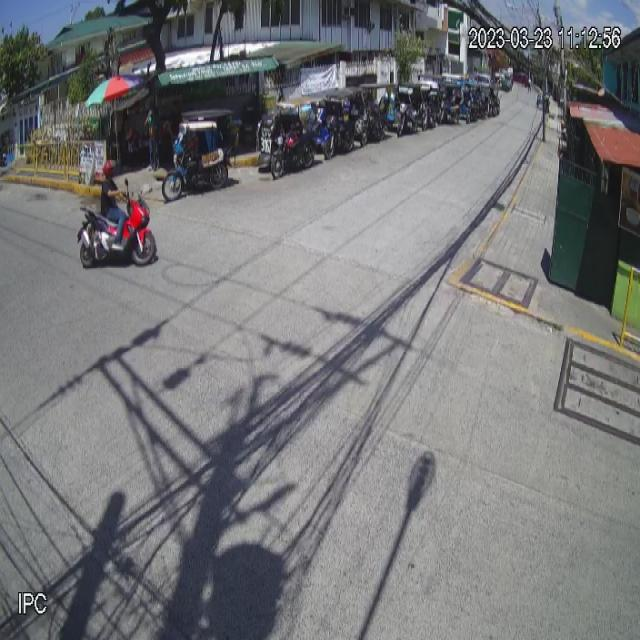Motorcycle: (75, 177, 157, 269)
Tricycle: (162, 108, 237, 201)
